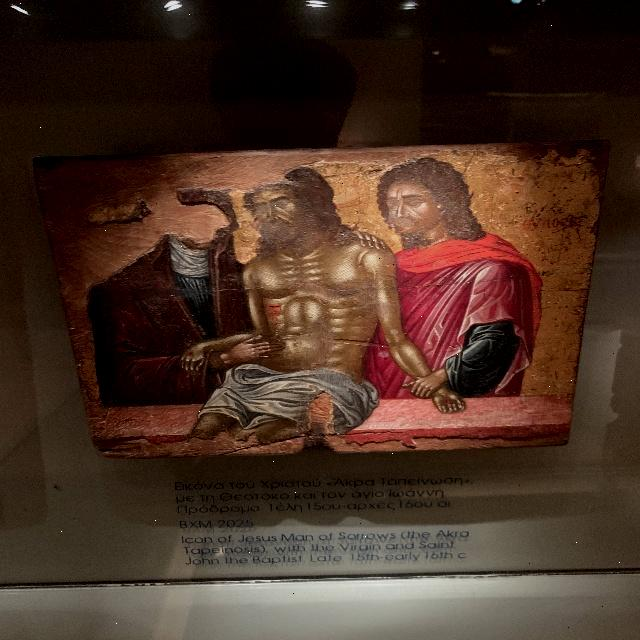christ_crucifixion: (232, 168, 379, 430)
saint: (82, 186, 256, 397), (399, 163, 531, 397)
